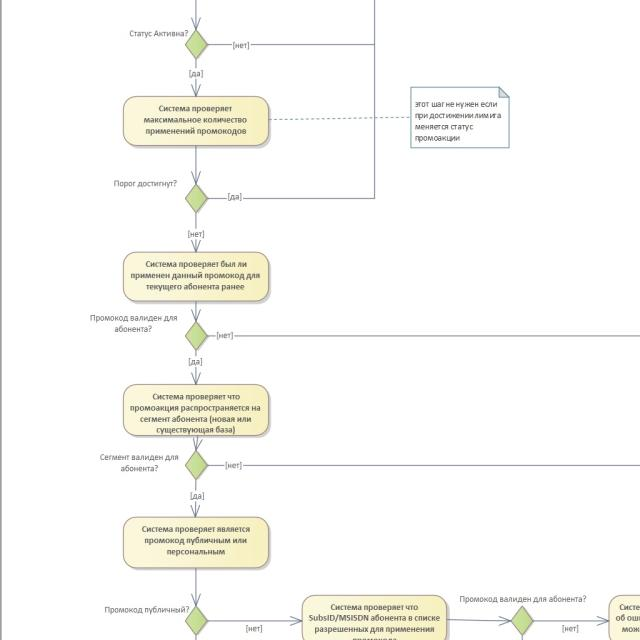arrow: (207, 615, 301, 628), (533, 616, 609, 627), (449, 615, 509, 628), (190, 479, 202, 517), (192, 212, 202, 252), (190, 351, 201, 385), (191, 569, 201, 606), (193, 146, 201, 186), (193, 59, 201, 96), (192, 435, 205, 449), (192, 302, 199, 322)
diamond: (508, 606, 537, 635), (182, 30, 210, 59), (182, 185, 211, 213), (182, 607, 210, 635), (183, 322, 210, 350), (184, 450, 207, 480)
rectangle: (123, 383, 268, 437), (125, 94, 268, 147), (124, 250, 268, 302), (125, 518, 268, 570)
text_region: (414, 100, 503, 145), (90, 314, 178, 335), (458, 594, 589, 607), (100, 453, 179, 474), (102, 603, 190, 613), (112, 179, 179, 190), (129, 30, 188, 39), (224, 459, 242, 472), (561, 624, 580, 634), (187, 228, 204, 239), (189, 66, 202, 80), (216, 332, 235, 341), (245, 623, 262, 633), (232, 42, 250, 50), (187, 359, 203, 367), (227, 192, 241, 201), (190, 492, 203, 500)
